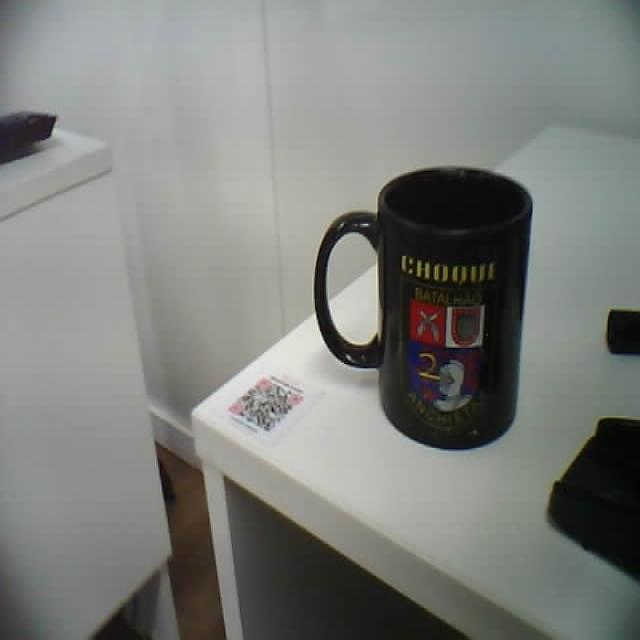caneca: (316, 169, 531, 447)
